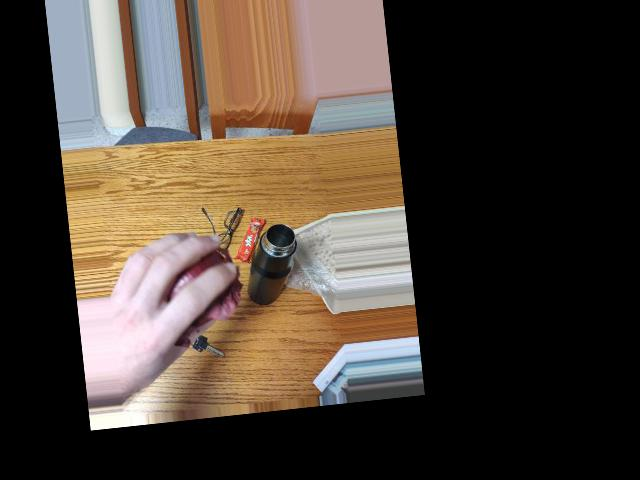onion: (152, 243, 230, 342)
